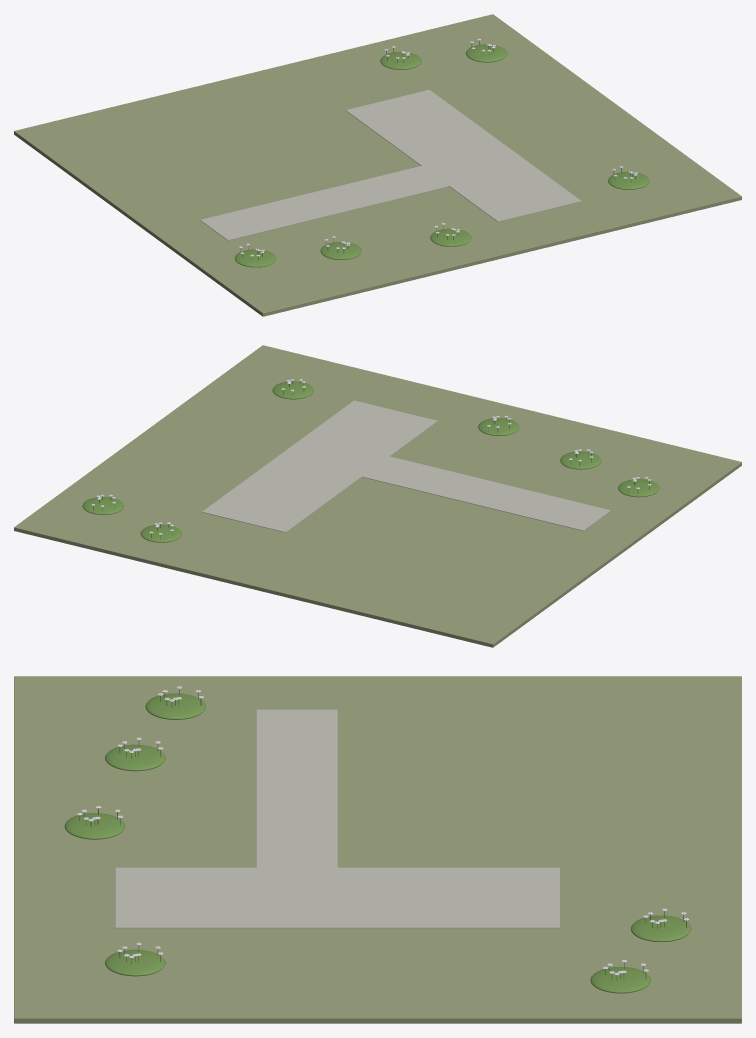
Rendered from beekeeping-and-honey-farm-flowering-apiary-base-ef70059f__30746.glb.
3 views of the same model, one above another, from view 1: azimuth 30°, elevation 25°; view 2: azimuth 150°, elevation 25°; view 3: azimuth 270°, elevation 25° (orthographic). The views are drawn at different scales.
Parts seen in each view (by area): view 1: flowering-apiary-base; view 2: flowering-apiary-base; view 3: flowering-apiary-base.
Part boxes in pixels (x1,y1,x2,y2): flowering-apiary-base: (14,14,741,316); flowering-apiary-base: (14,345,741,647); flowering-apiary-base: (14,676,741,1023).
Size of the model in its own units: 20 by 0.5519 by 18.
